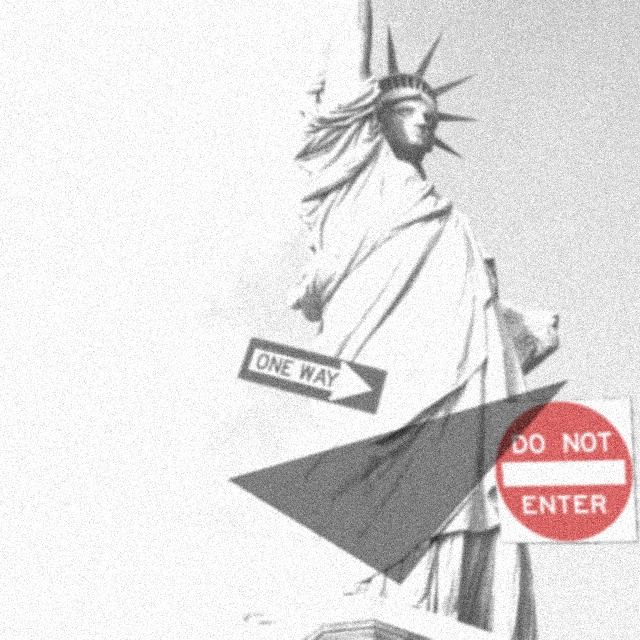DO_NOT_ENTER: (486, 397, 638, 544)
ONE_WAY_ right: (236, 336, 388, 415)
